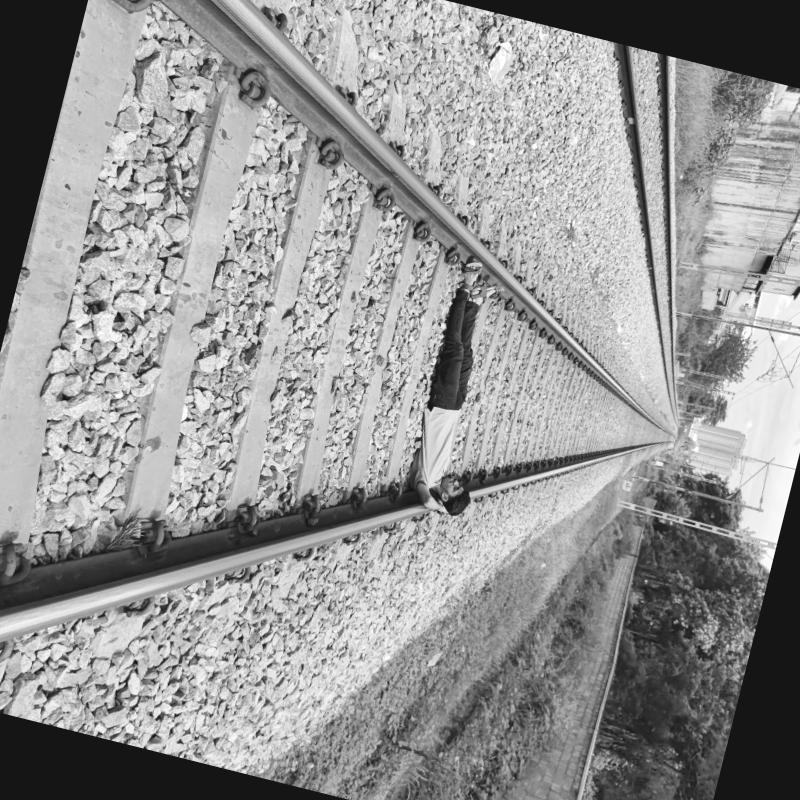sleeping: (392, 248, 532, 528)
